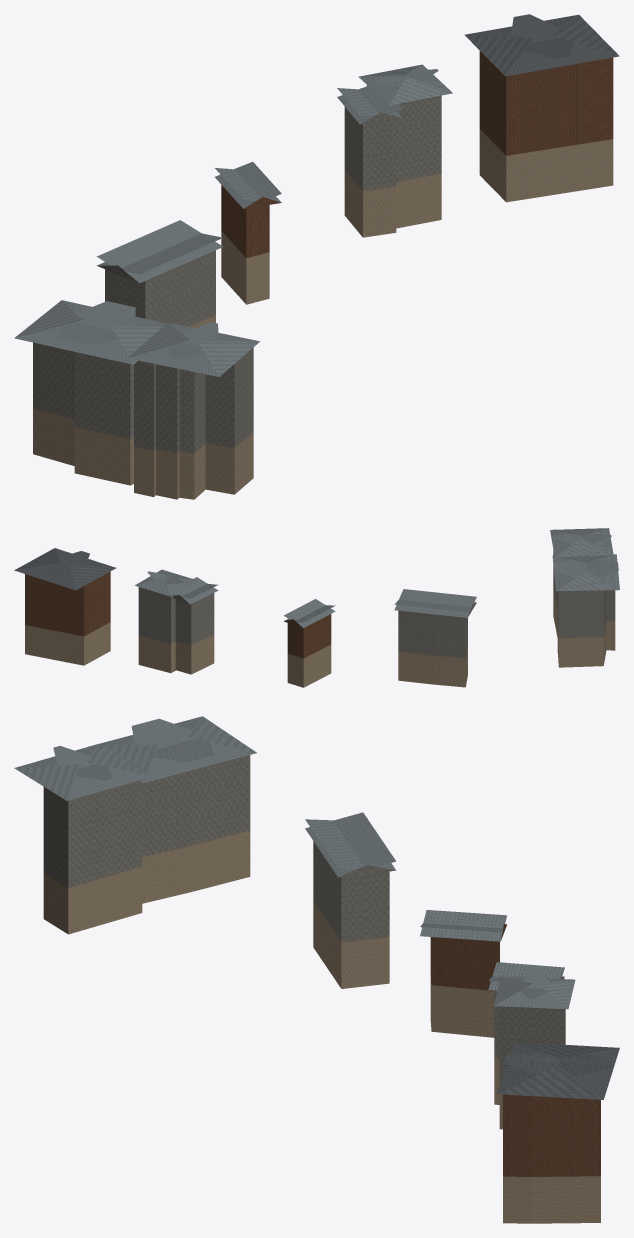
The model's file is bld_c33_-40_447.gltf.
3 renders of one model, top to bottom at view 1: azimuth 30°, elevation 25°; view 2: azimuth 150°, elevation 25°; view 3: azimuth 270°, elevation 25°, orthographic. The views are drawn at different scales.
Parts seen in each view (by area): view 1: bld_c33_-40_447; view 2: bld_c33_-40_447; view 3: bld_c33_-40_447.
Part boxes in pixels (left/top/right/bottom): bld_c33_-40_447: left=14, top=14, right=619, bottom=499; bld_c33_-40_447: left=14, top=528, right=619, bottom=687; bld_c33_-40_447: left=14, top=716, right=619, bottom=1223.
Size of the model in its own units: 87.83 by 16.6 by 60.03.
7 materials, 7 textured.
